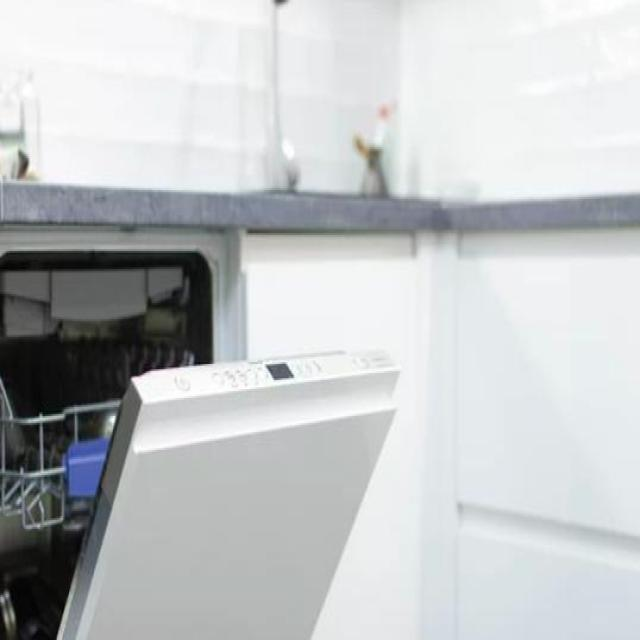dishwasher: (0, 219, 407, 638)
